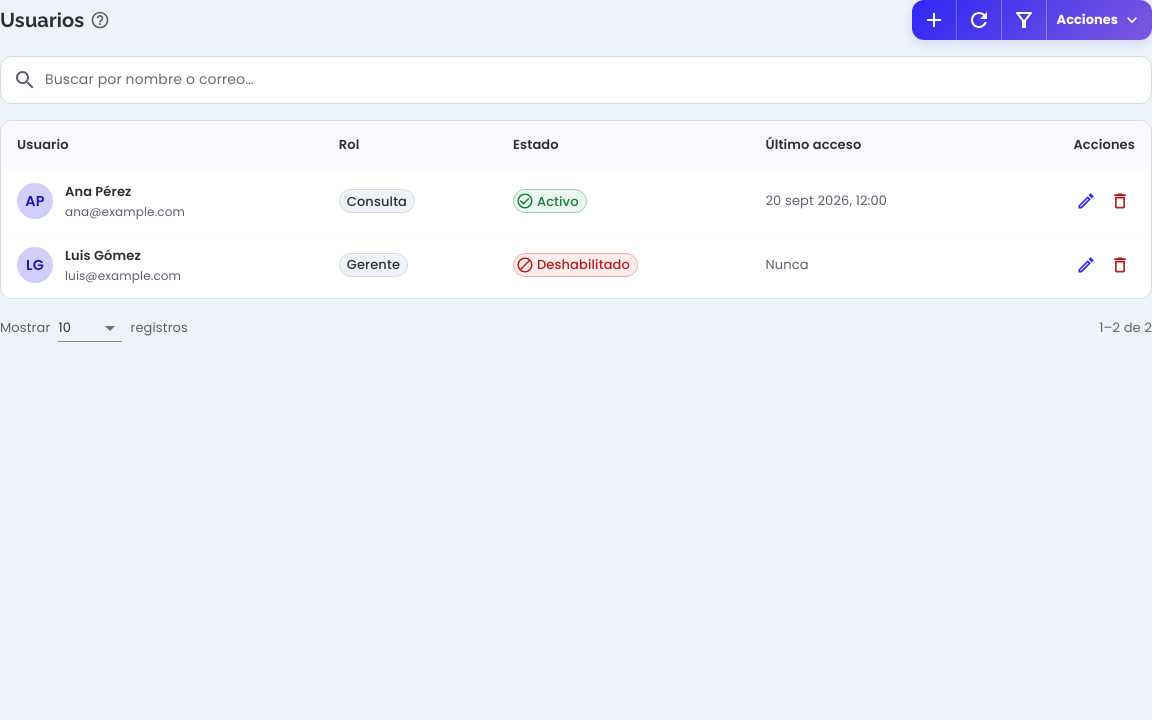
Test: <UsersPage /> › crea un usuario desde el diálogo
The image size is (1152, 720).
Expected: the row "Ana Pérez" is shown, x1=1 y1=170 x2=1151 y2=233
Click the button named "Nuevo usuario". click: (934,20)
box: x1=912 y1=0 x2=956 y2=40
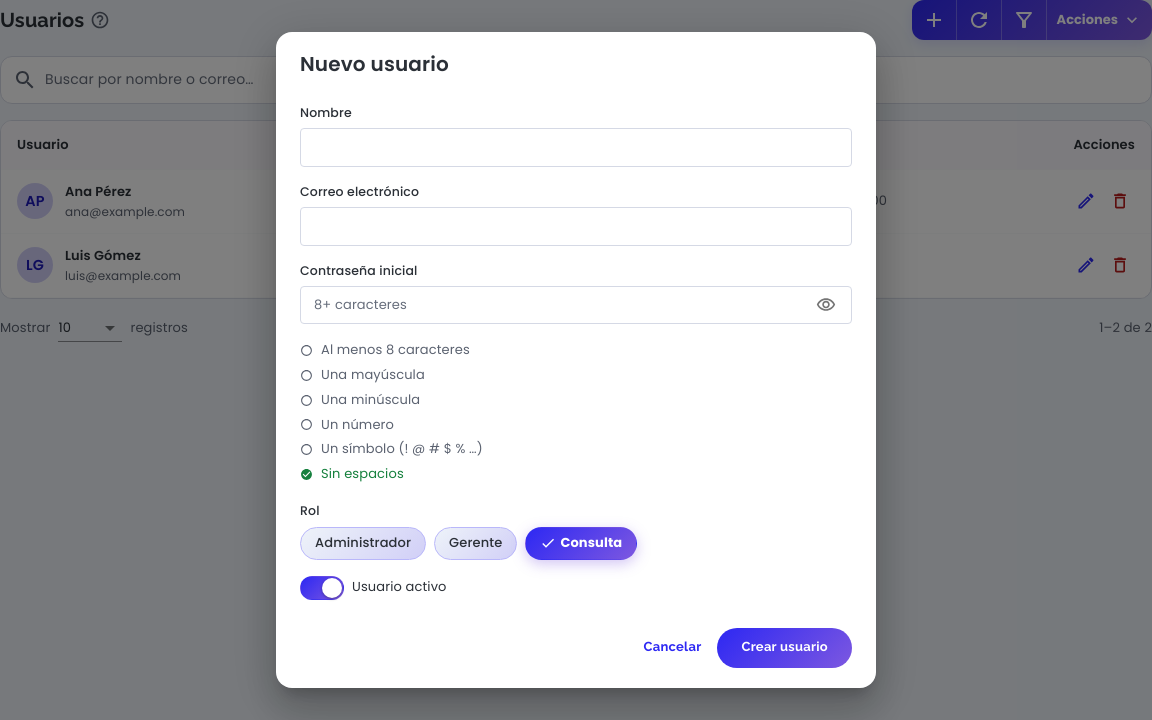
Type "Marta Ruiz" into the field labelled "Nombre". click: (576,148)
box: x1=300 y1=128 x2=852 y2=167
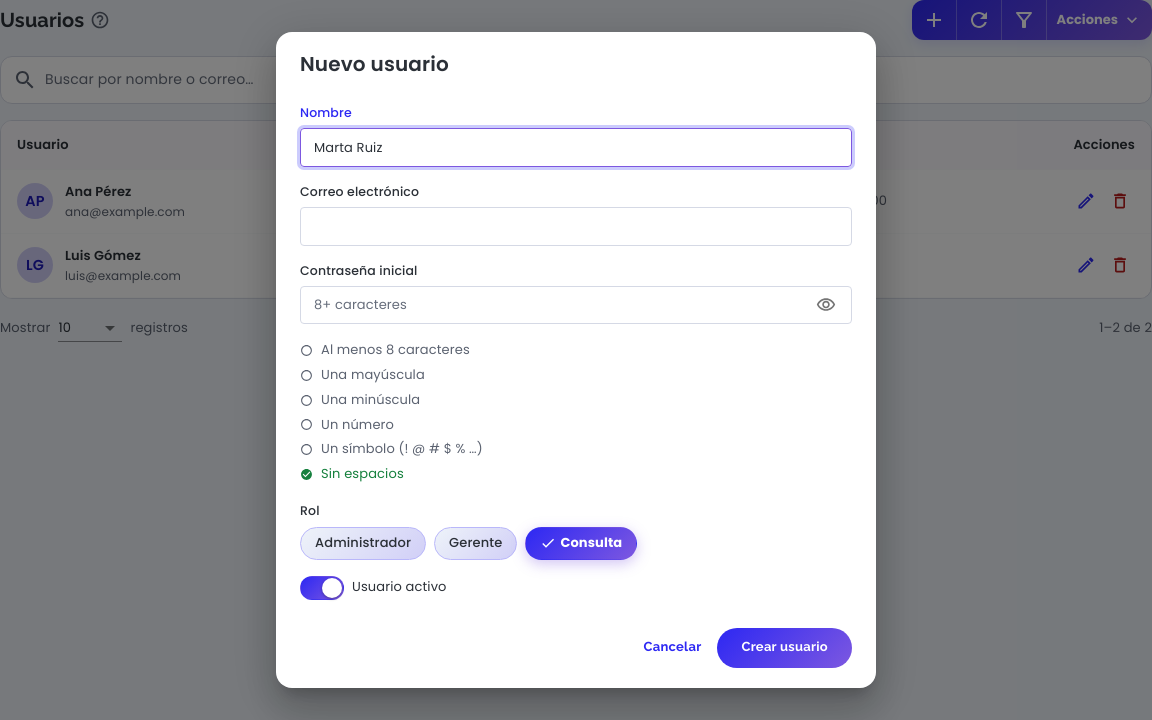
Type "marta@example.com" into the field labelled "Correo electrónico". click: (576,226)
box: x1=300 y1=207 x2=852 y2=246
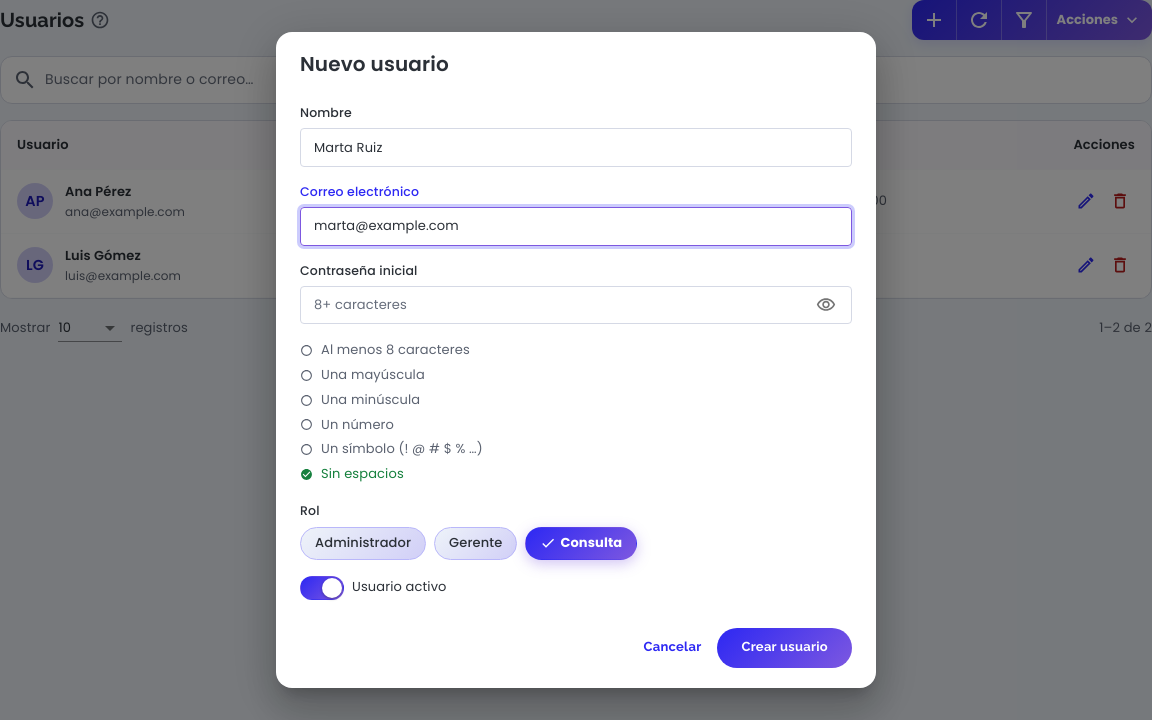
Type "Segura#12345" into the password field labelled "Contraseña inicial". click: (552,305)
box: x1=300 y1=286 x2=803 y2=324
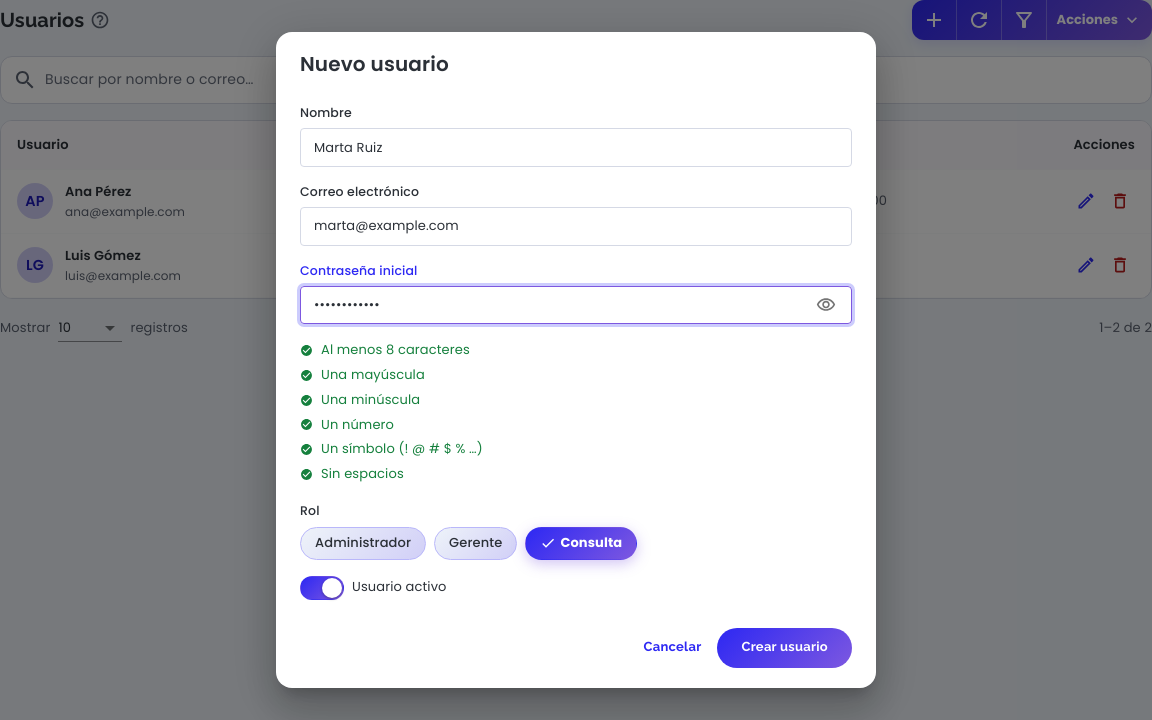
Click the radio button labelled "Gerente". click: (476,543)
box: x1=434 y1=527 x2=517 y2=560
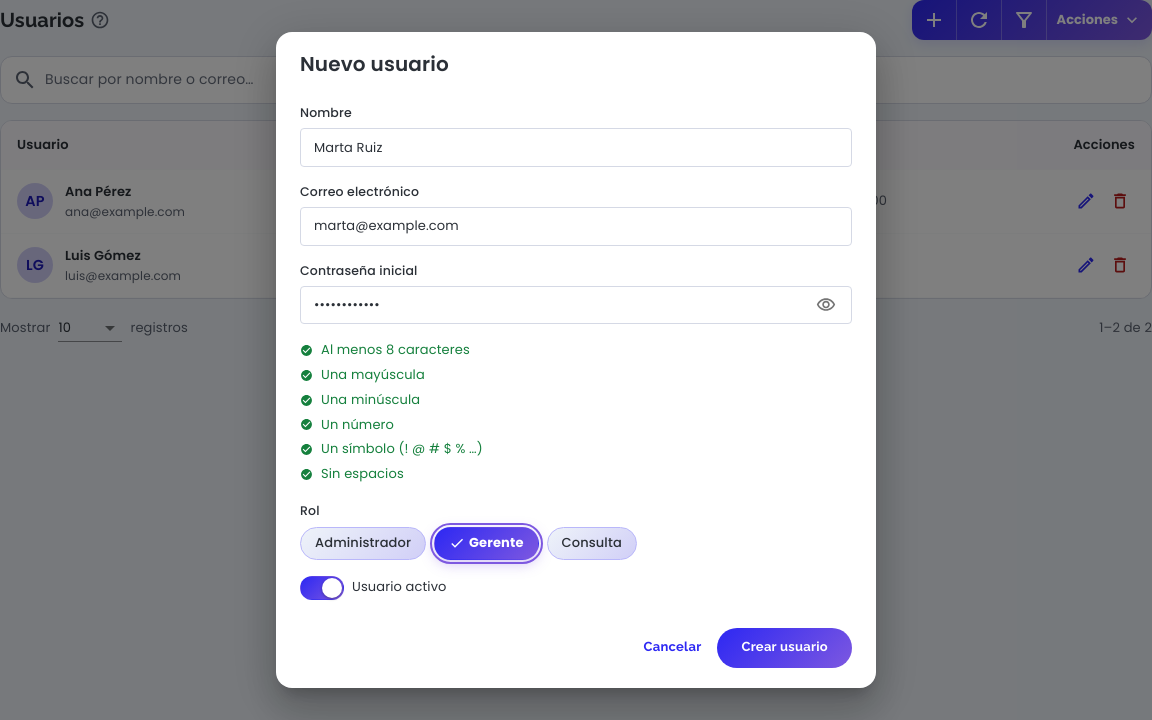
Click the button "Crear usuario". click: (785,648)
box: x1=718 y1=628 x2=852 y2=668
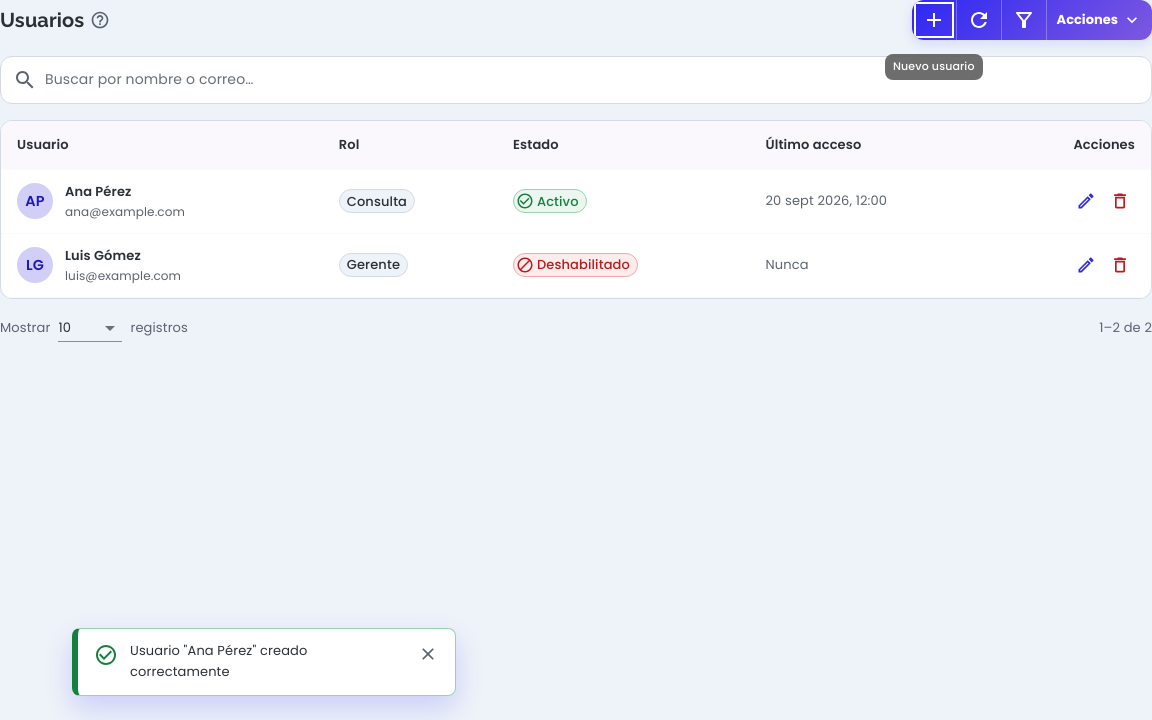
Result: the dialog is gone
Result: the element named "Notificaciones" reads "Usuario \"Ana Pérez\" creado correctamente" at x1=130 y1=641 x2=307 y2=681
